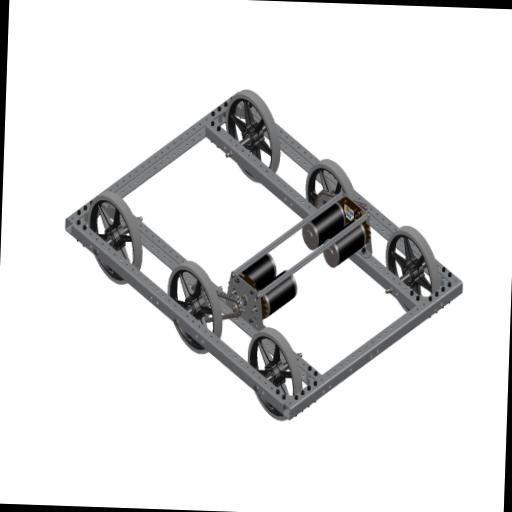robot: (45, 75, 475, 424)
